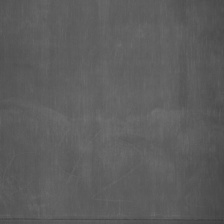welding_line: (2, 214, 224, 222)
